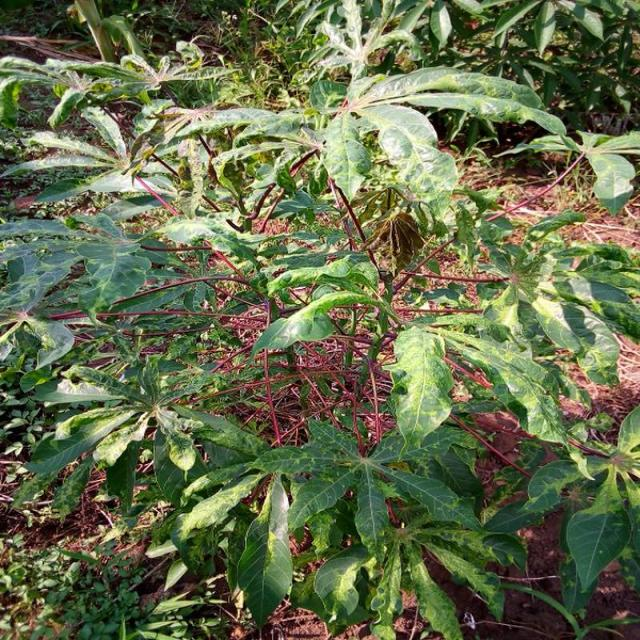cassava leaf: (2, 1, 640, 637), (238, 473, 294, 627), (386, 324, 456, 447)
